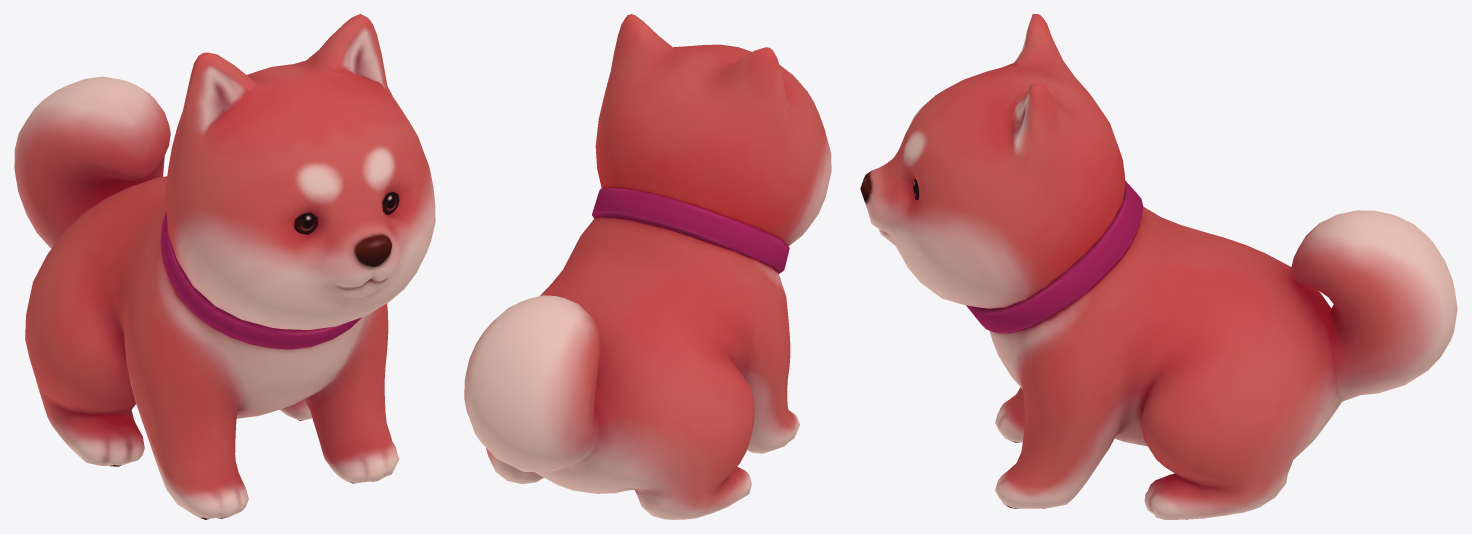
The model's file is redMob.gltf.
3 renders of one model, left to right at view 1: azimuth 30°, elevation 25°; view 2: azimuth 150°, elevation 25°; view 3: azimuth 270°, elevation 25°, orthographic. The views are drawn at different scales.
Visible parts, largest first — view 1: Box002, Group18985, Object001_default_0; view 2: Box002, Group18985; view 3: Box002, Group18985.
Boxes of the visible parts, <box> form: Box002: <box>14,14,435,519</box>; Group18985: <box>160,211,362,349</box>; Object001_default_0: <box>294,192,399,234</box>; Box002: <box>464,14,831,519</box>; Group18985: <box>592,188,789,273</box>; Box002: <box>860,14,1457,519</box>; Group18985: <box>966,181,1143,333</box>.
Bounding box in the file's own units: 0.9209 × 1.38 × 1.77.
1 material, 1 textured.
